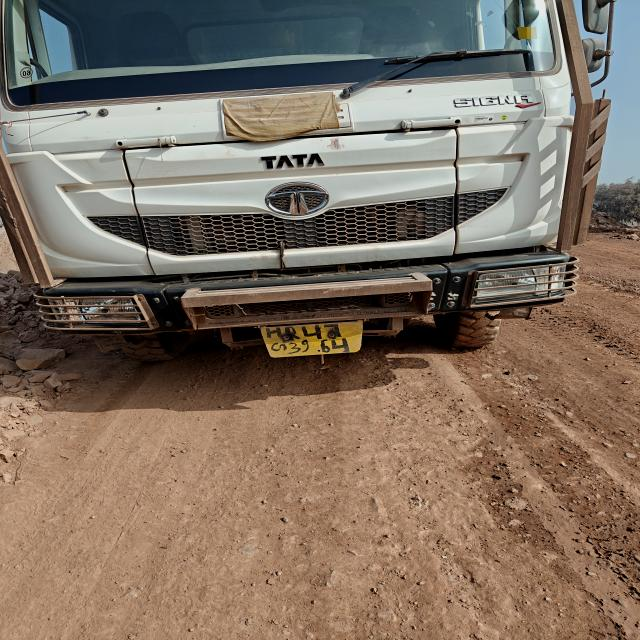license_plate: (261, 321, 362, 357)
